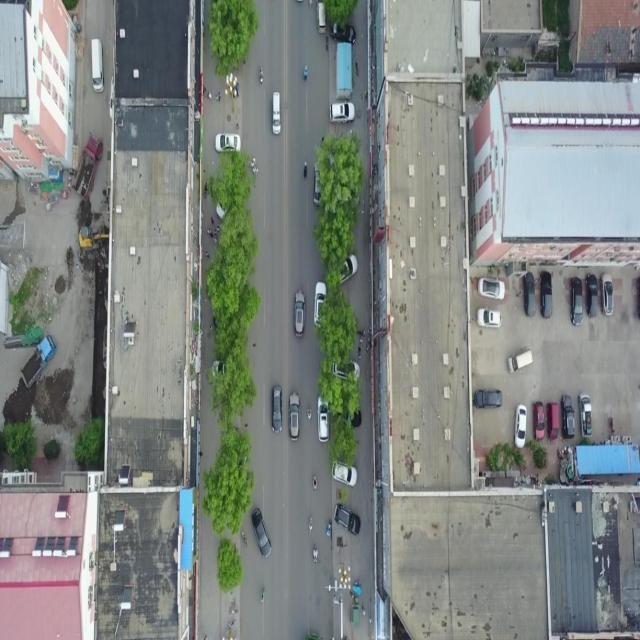p3rson: (259, 587, 265, 604), (201, 632, 207, 640)
